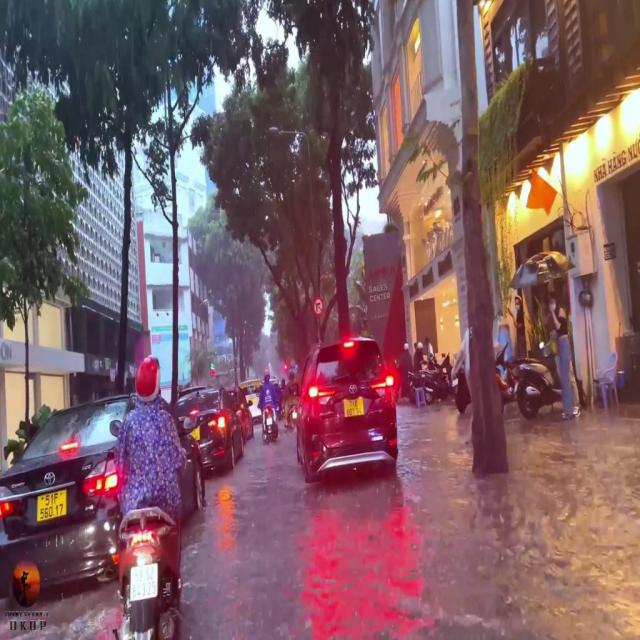cam_re_phai: (314, 297, 324, 317)
